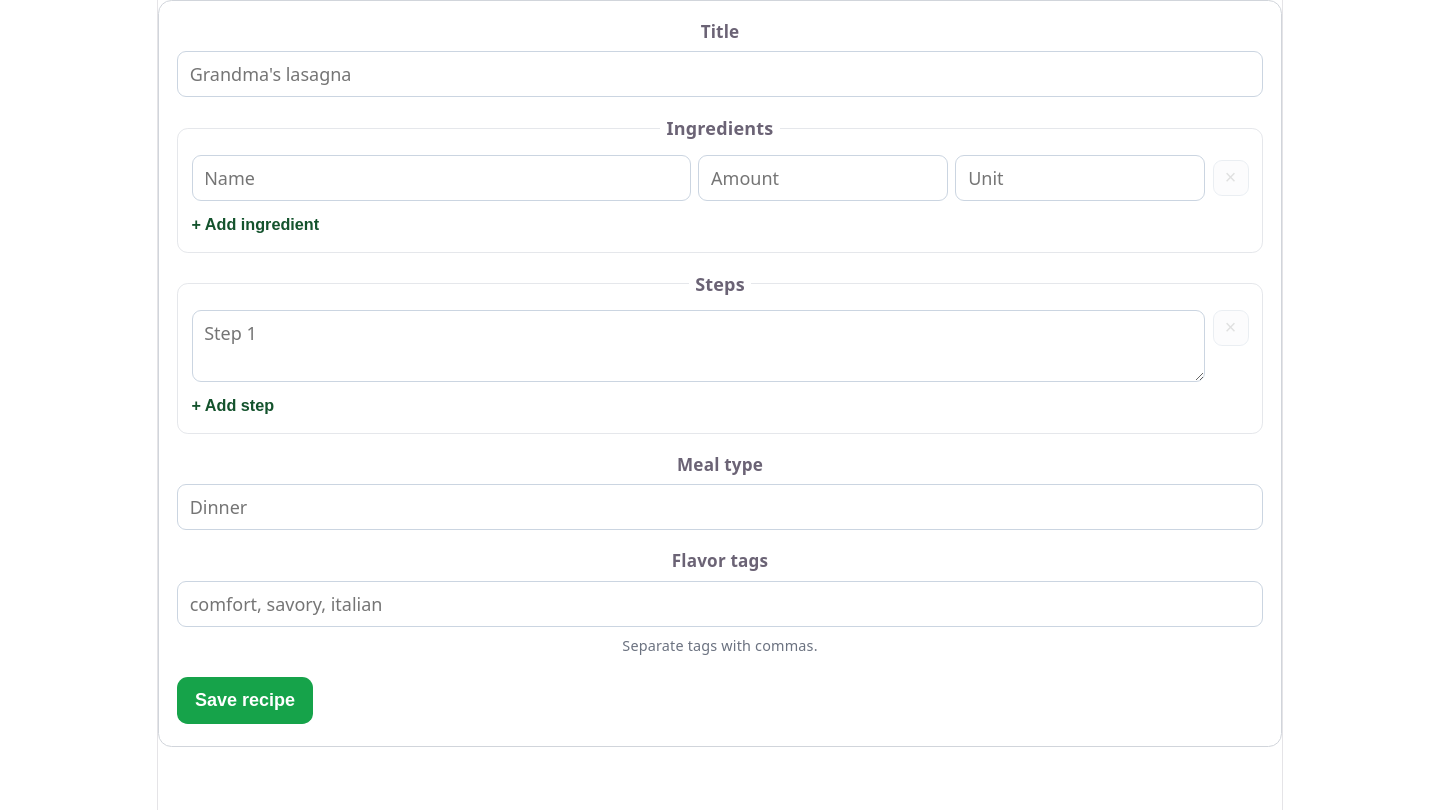
Test: ManualRecipeForm › submits a manual recipe and reports success
Type "Lasagna" into the field labelled "Title" at (720, 74), box [177,51,1263,98]
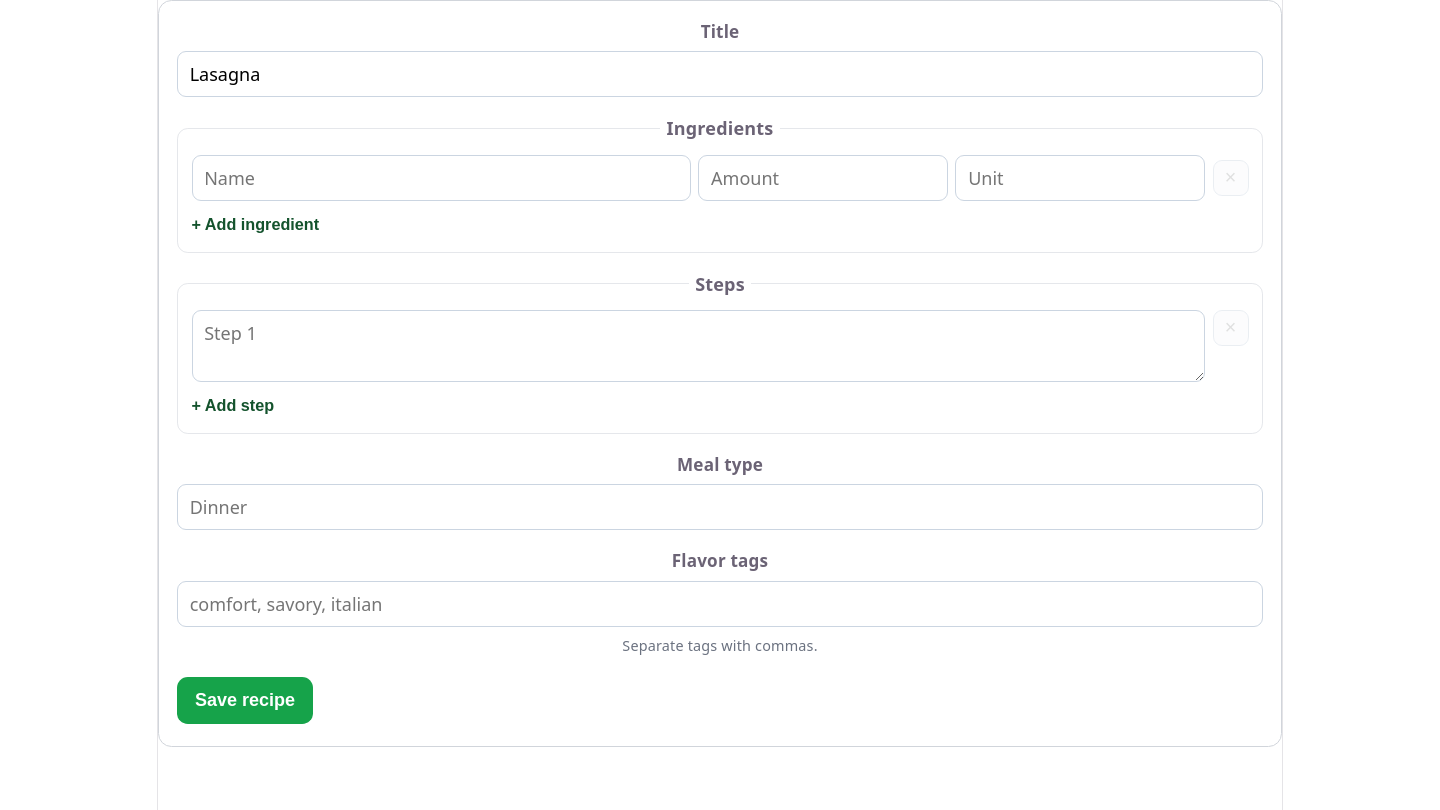
Type "pasta" into the field named "Ingredient 1 name" at (441, 178), box [192,155,691,201]
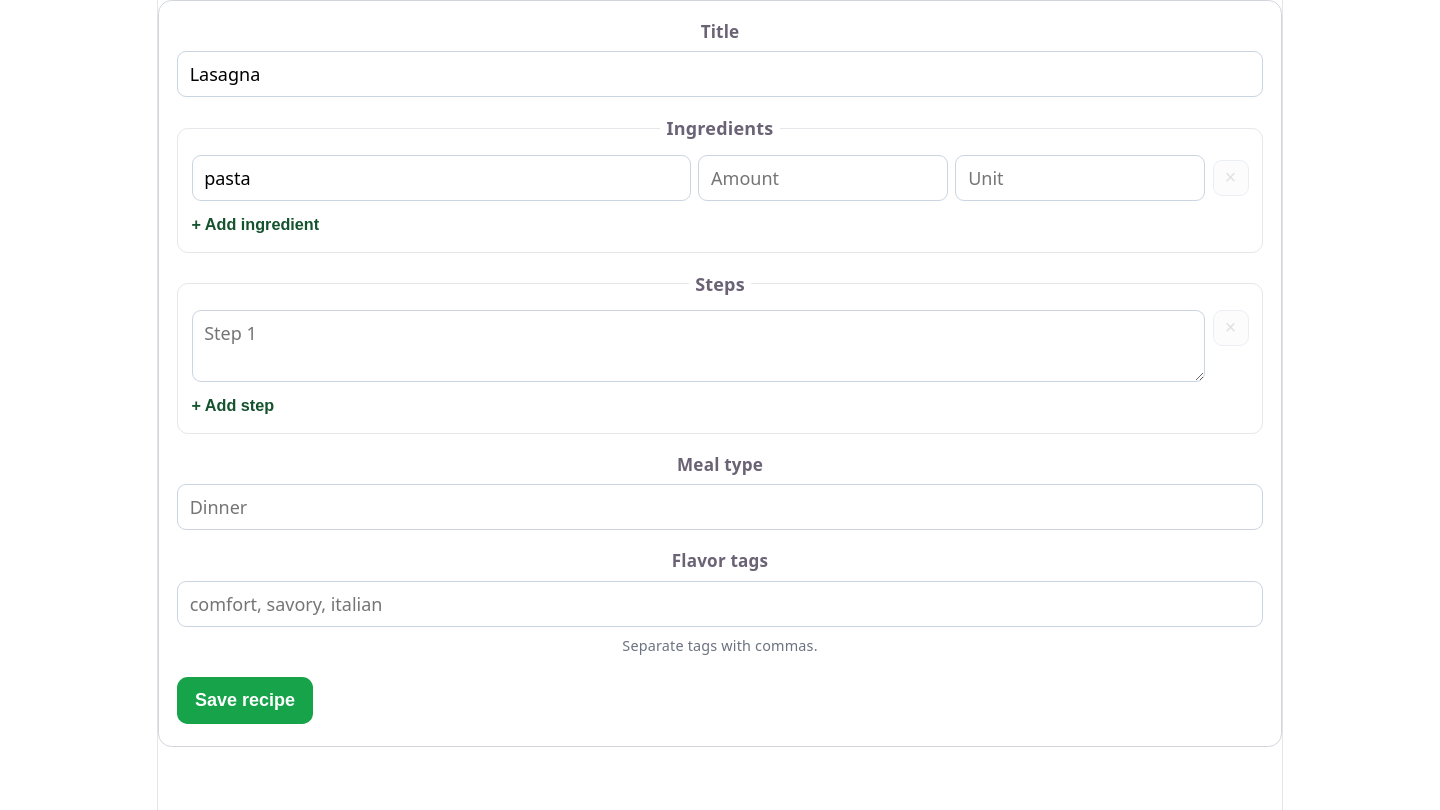
Type "Layer and bake" into the text box labelled "Step 1" at (698, 346), box [192,310,1205,382]
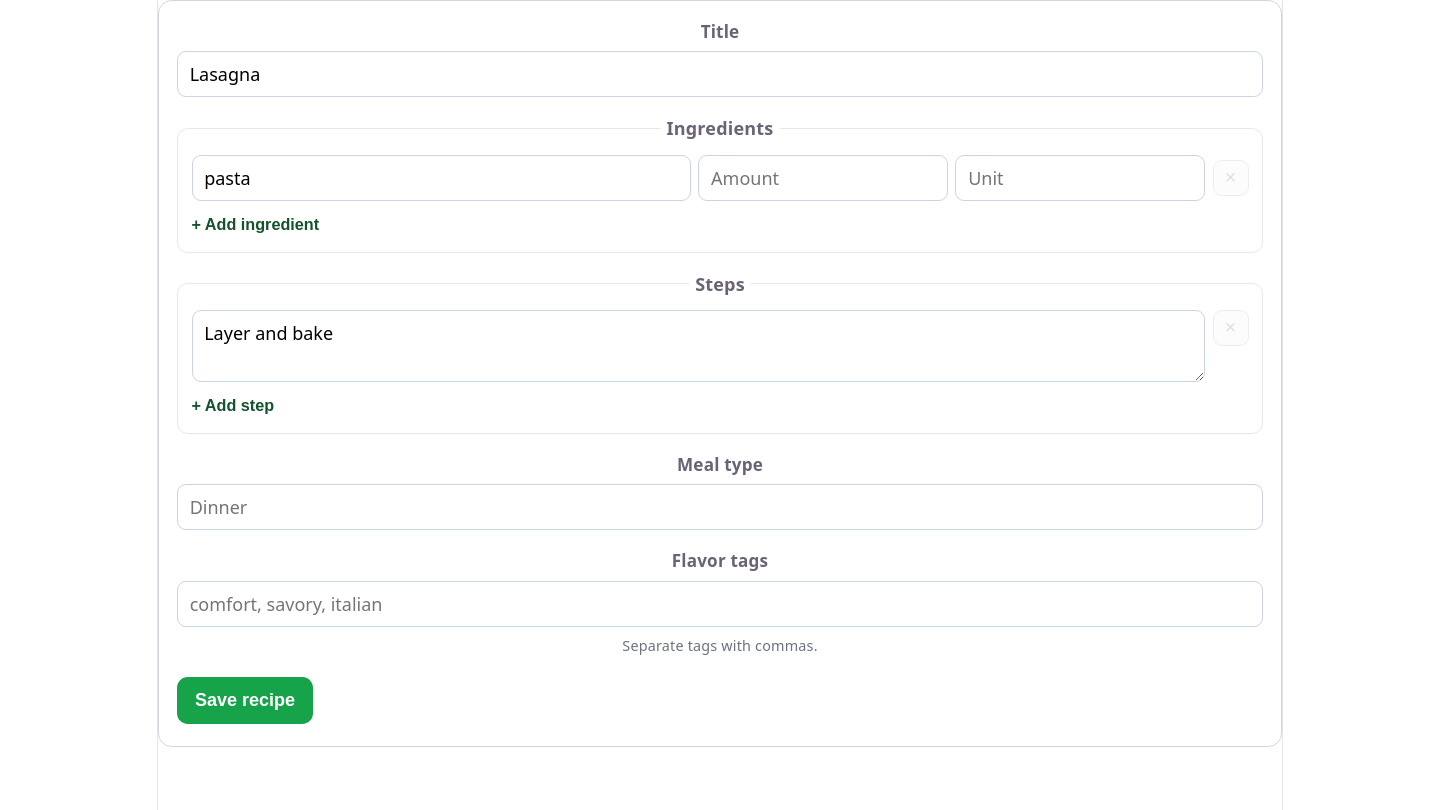
Click the button "Save recipe" at (245, 700), box [177,677,313,724]
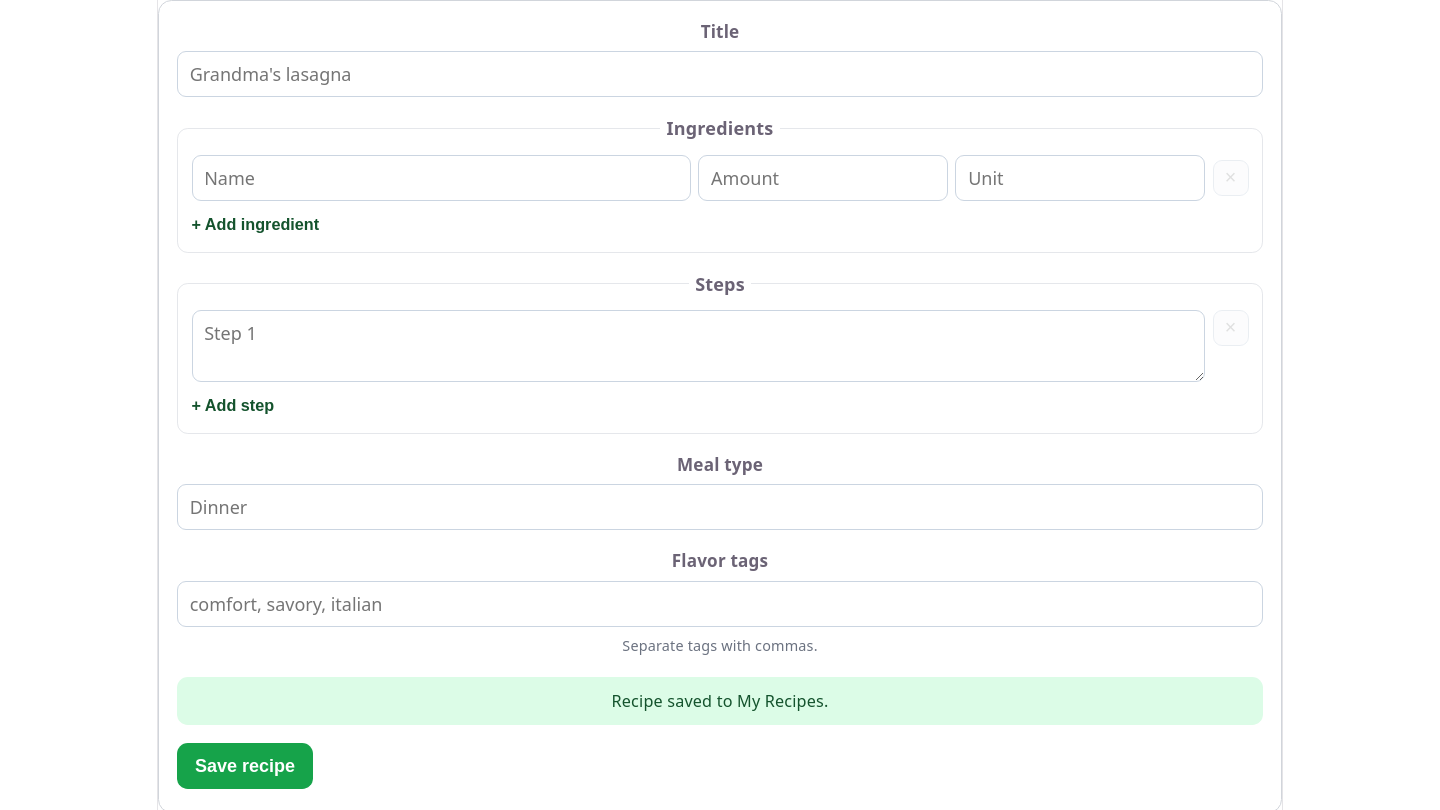
expect the text "Recipe saved to My Recipes." is shown: met, box [177,677,1263,725]
